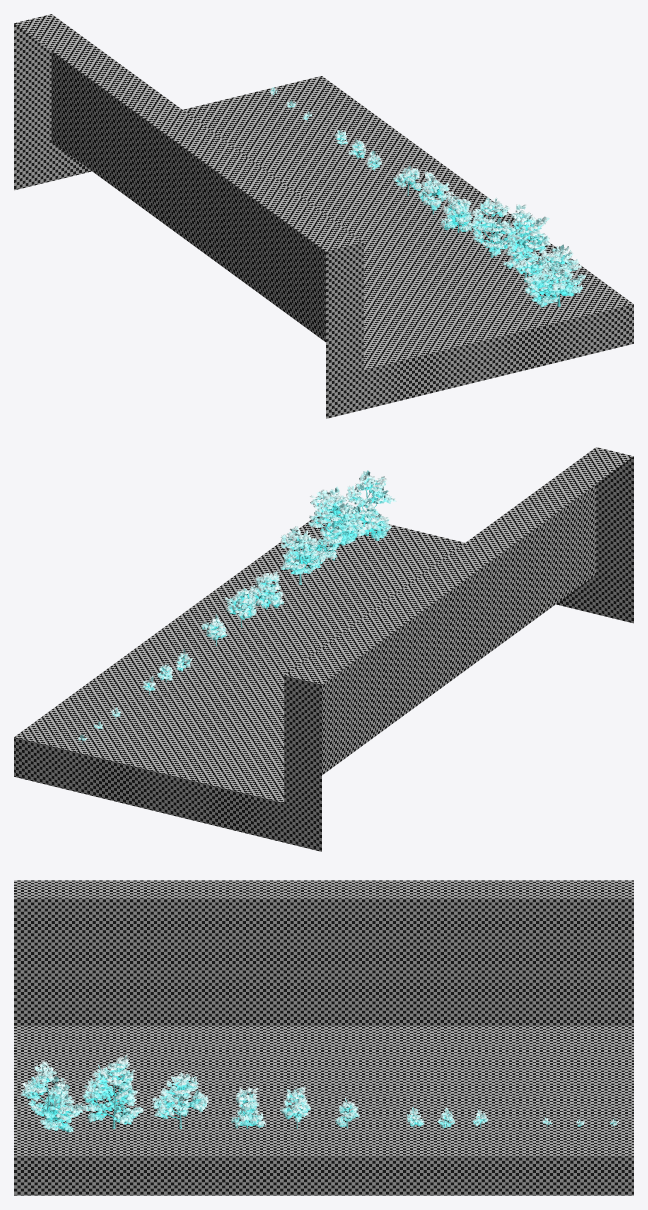
Rendered from Acer tree pack.fbx.
The picture shows the model from 3 angles, top to bottom: view 1: azimuth 30°, elevation 25°; view 2: azimuth 150°, elevation 25°; view 3: azimuth 270°, elevation 25°; orthographic projection.
Parts seen in each view (by area): view 1: Ground, Acer_large_2_LOD0, Acer_large_1_LOD0, Acer_large_3_LOD0, Acer_medium_1_LOD0, Acer_medium_2_LOD0; view 2: Ground, Acer_large_2_LOD0, Acer_large_1_LOD0, Acer_large_3_LOD0, Acer_medium_1_LOD0, Acer_medium_2_LOD0; view 3: Ground, Acer_large_2_LOD0, Acer_large_1_LOD0, Acer_large_3_LOD0, Acer_medium_1_LOD0, Acer_medium_2_LOD0.
Boxes of the visible parts, x1,y1,x2,y2 form: Ground: (14, 14, 633, 418); Acer_large_2_LOD0: (502, 204, 550, 282); Acer_large_1_LOD0: (524, 244, 586, 307); Acer_large_3_LOD0: (468, 197, 514, 257); Acer_medium_1_LOD0: (440, 191, 472, 232); Acer_medium_2_LOD0: (418, 171, 449, 214); Ground: (14, 447, 633, 851); Acer_large_2_LOD0: (302, 486, 367, 560); Acer_large_1_LOD0: (336, 470, 396, 540); Acer_large_3_LOD0: (280, 526, 326, 584); Acer_medium_1_LOD0: (250, 570, 283, 609); Acer_medium_2_LOD0: (224, 588, 256, 627); Ground: (14, 880, 633, 1195); Acer_large_2_LOD0: (82, 1054, 143, 1128); Acer_large_1_LOD0: (20, 1061, 83, 1132); Acer_large_3_LOD0: (151, 1072, 208, 1128); Acer_medium_1_LOD0: (230, 1086, 265, 1128); Acer_medium_2_LOD0: (280, 1086, 310, 1128).
Size of what is drawn, in the model's own units: 10600 by 5500 by 18605.
